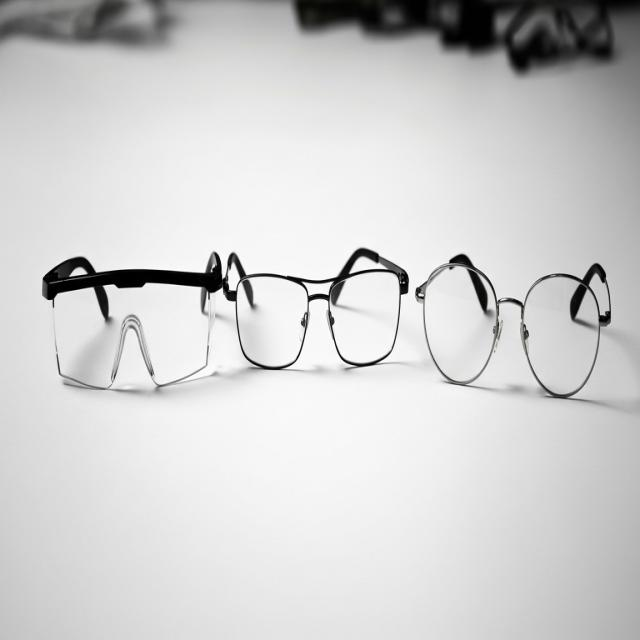oculos-epi: (42, 252, 222, 387)
sem_oculos: (416, 255, 610, 397), (222, 250, 408, 369)
